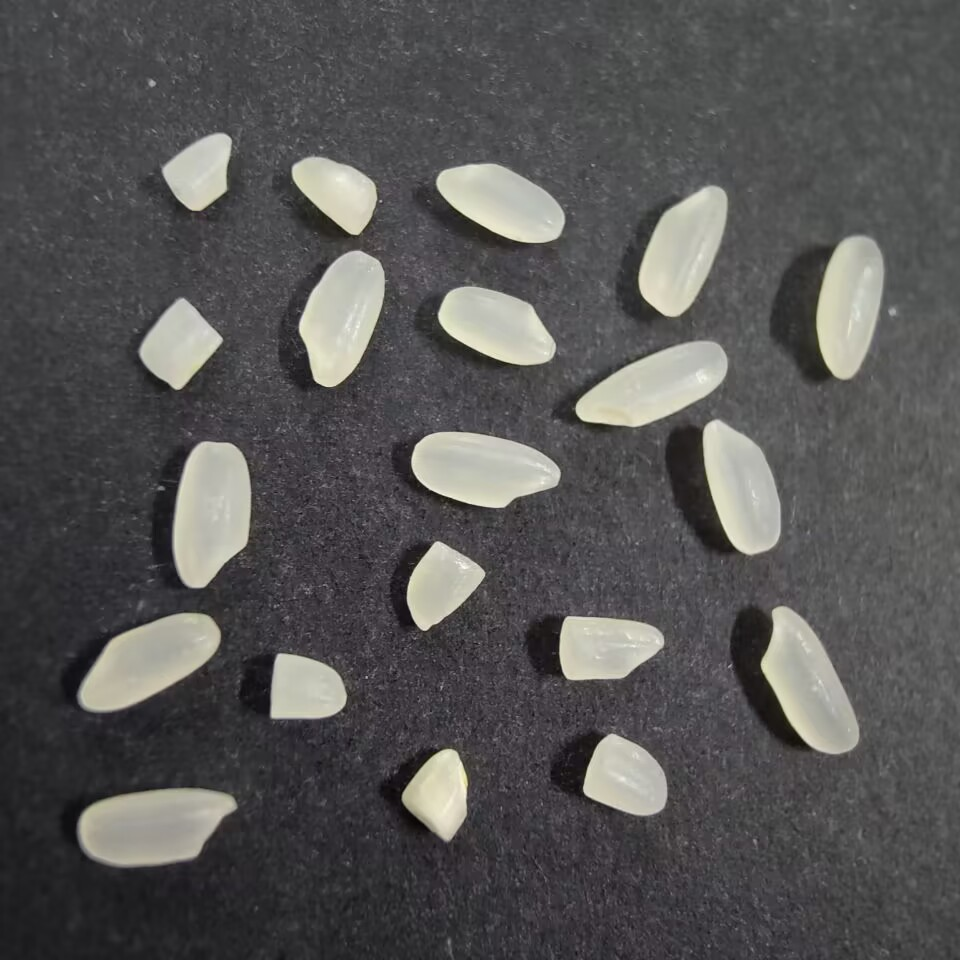broken: (135, 294, 226, 392), (578, 731, 671, 819), (557, 611, 667, 684), (403, 537, 488, 630), (398, 746, 476, 846), (287, 155, 379, 239), (158, 125, 237, 214), (266, 648, 349, 726)
rice: (756, 601, 861, 757), (72, 609, 223, 714), (71, 783, 238, 870), (571, 338, 730, 428), (634, 179, 730, 320), (408, 427, 566, 512), (169, 438, 254, 589), (297, 246, 384, 388), (699, 416, 785, 558), (432, 161, 570, 248), (814, 232, 886, 385), (436, 284, 557, 366)
